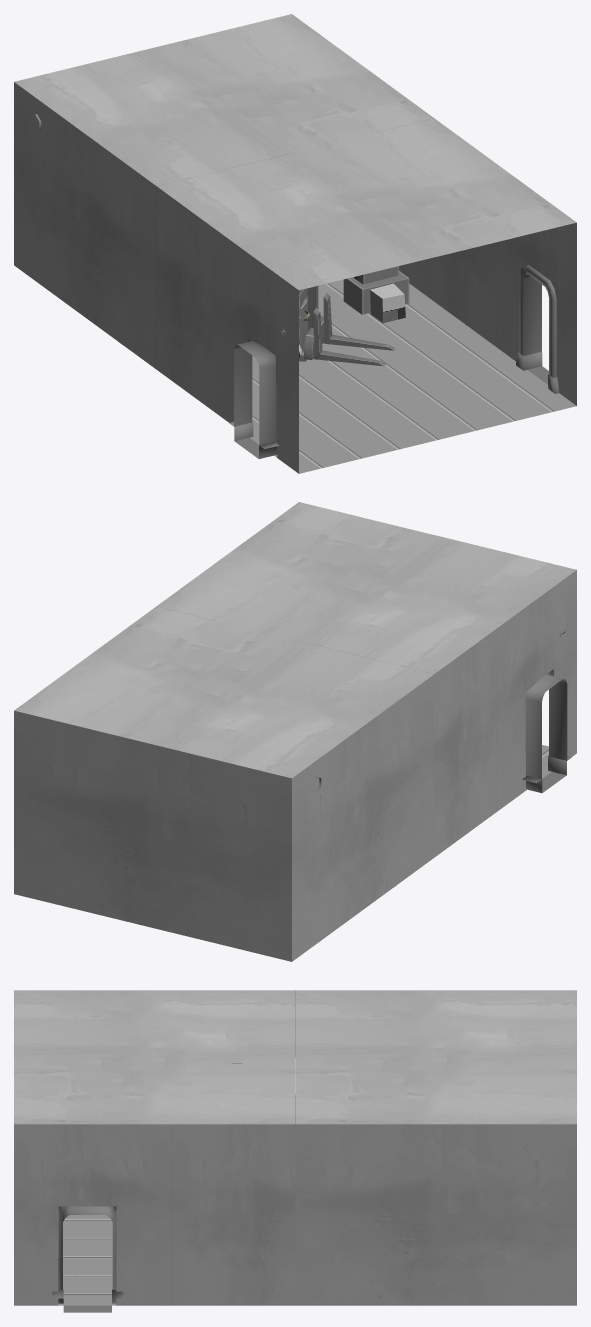
File: MHS_Storage_L1_R1_optimized.fbx
3 views of the same model, one above another, from view 1: azimuth 30°, elevation 25°; view 2: azimuth 150°, elevation 25°; view 3: azimuth 270°, elevation 25° (orthographic).
Visible parts, largest first — view 1: lightmap2, lightmap-1; view 2: lightmap2, lightmap-1; view 3: lightmap2, lightmap-1.
Boxes of the visible parts, x1=… form: lightmap2: x1=14, y1=14, x2=576, y2=473; lightmap-1: x1=234, y1=274, x2=548, y2=458; lightmap2: x1=14, y1=502, x2=576, y2=961; lightmap-1: x1=525, y1=674, x2=567, y2=793; lightmap2: x1=14, y1=990, x2=576, y2=1305; lightmap-1: x1=63, y1=1206, x2=112, y2=1312.
Size of the model in its own units: 10.3 by 5.93 by 16.51.
